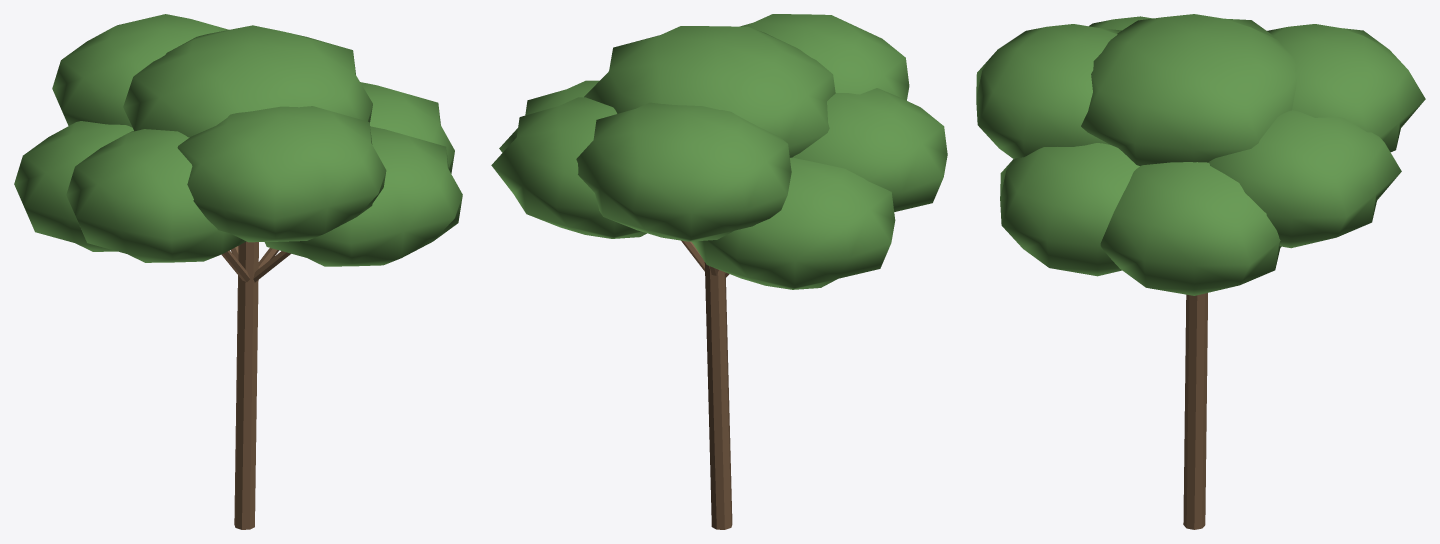
Rendered from HighlandShadeTree.glb.
3 renders of one model, left to right at view 1: azimuth 30°, elevation 25°; view 2: azimuth 150°, elevation 25°; view 3: azimuth 270°, elevation 25°, orthographic. The views are drawn at different scales.
Visible parts, largest first — view 1: HighlandShadeTree_Highlands_Shade_Leaf, HighlandShadeTree_Highlands_Tree_Bark; view 2: HighlandShadeTree_Highlands_Shade_Leaf, HighlandShadeTree_Highlands_Tree_Bark; view 3: HighlandShadeTree_Highlands_Shade_Leaf, HighlandShadeTree_Highlands_Tree_Bark.
Boxes of the visible parts, left/top/right/bottom form: HighlandShadeTree_Highlands_Shade_Leaf: left=14, top=14, right=462, bottom=266; HighlandShadeTree_Highlands_Tree_Bark: left=221, top=241, right=290, bottom=529; HighlandShadeTree_Highlands_Shade_Leaf: left=491, top=14, right=947, bottom=289; HighlandShadeTree_Highlands_Tree_Bark: left=681, top=240, right=732, bottom=529; HighlandShadeTree_Highlands_Shade_Leaf: left=976, top=14, right=1425, bottom=295; HighlandShadeTree_Highlands_Tree_Bark: left=1183, top=293, right=1207, bottom=529.
Bounding box in the file's own units: 9.78 × 11.46 × 9.44.
